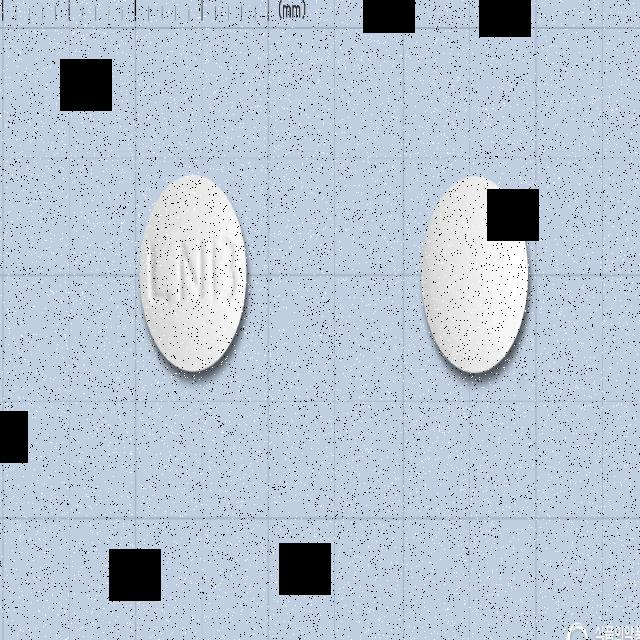Lenovo: (140, 172, 248, 372)
